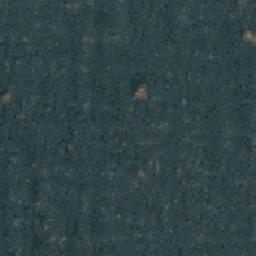debris: (133, 82, 151, 102), (242, 30, 256, 42), (1, 91, 12, 104)
